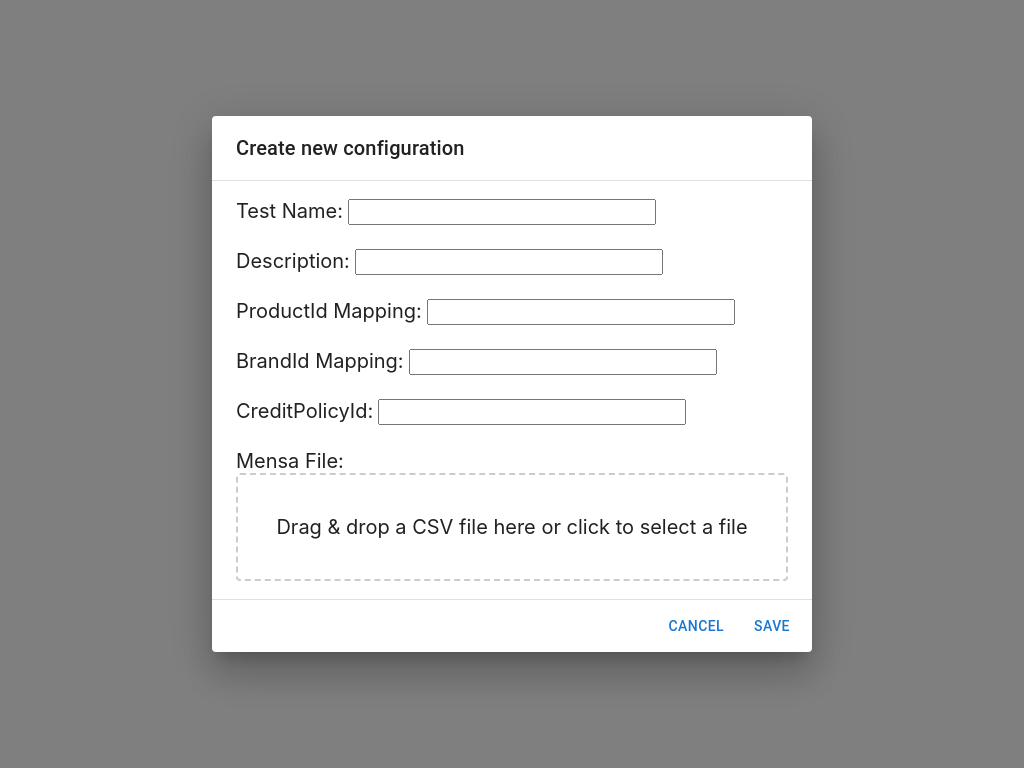
Test: CreateNewConfiguration › handles errors for blank fields submission
Note: Submit the form
Click the button "Save" at (772, 626), box [740, 608, 804, 644]
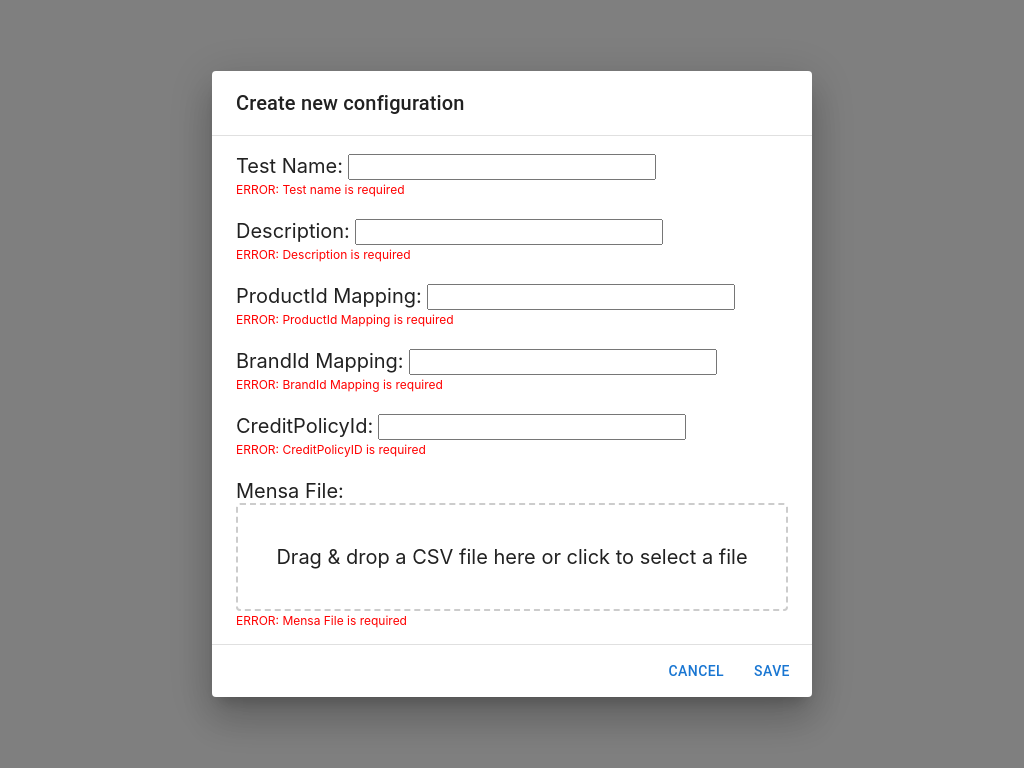
Check: the text "ERROR: Test name is required" is shown, box [236, 182, 404, 197]
Check: the text "ERROR: Description is required" is shown, box [236, 247, 411, 262]
Check: the text "ERROR: ProductId Mapping is required" is shown, box [236, 312, 454, 327]
